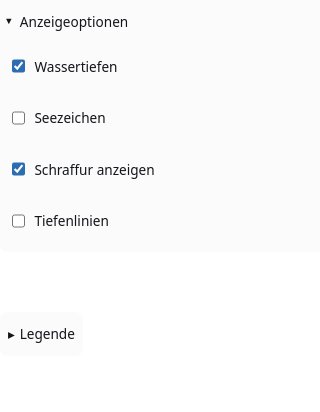
Test: #629 depth contours › shows a non-blocking error beside the toggle on fetch failure, and never populates the source
Step 1. Click the checkbox labelled "Tiefenlinien" → (18, 221), box [12,201,25,241]
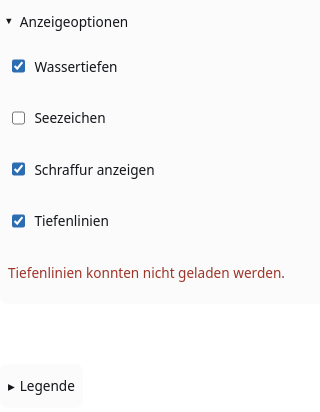
Result: the text "Tiefenlinien konnten nicht geladen werden." is shown at [8,263,285,282]
